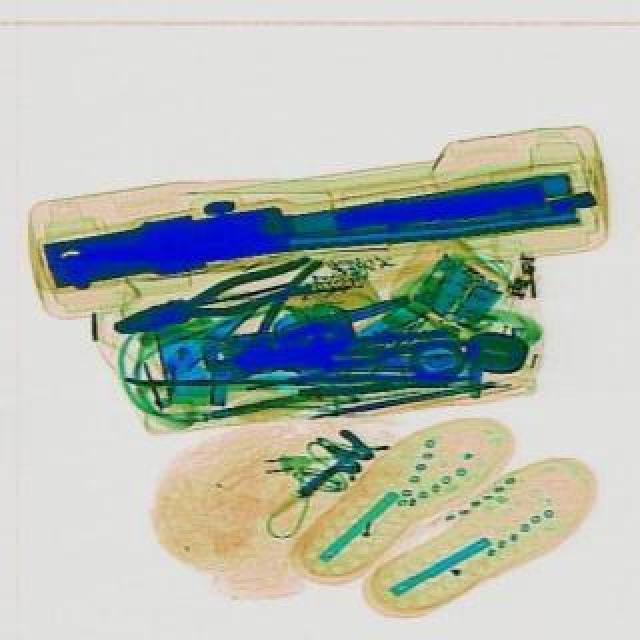wrench: (192, 284, 472, 396), (106, 252, 318, 344)
